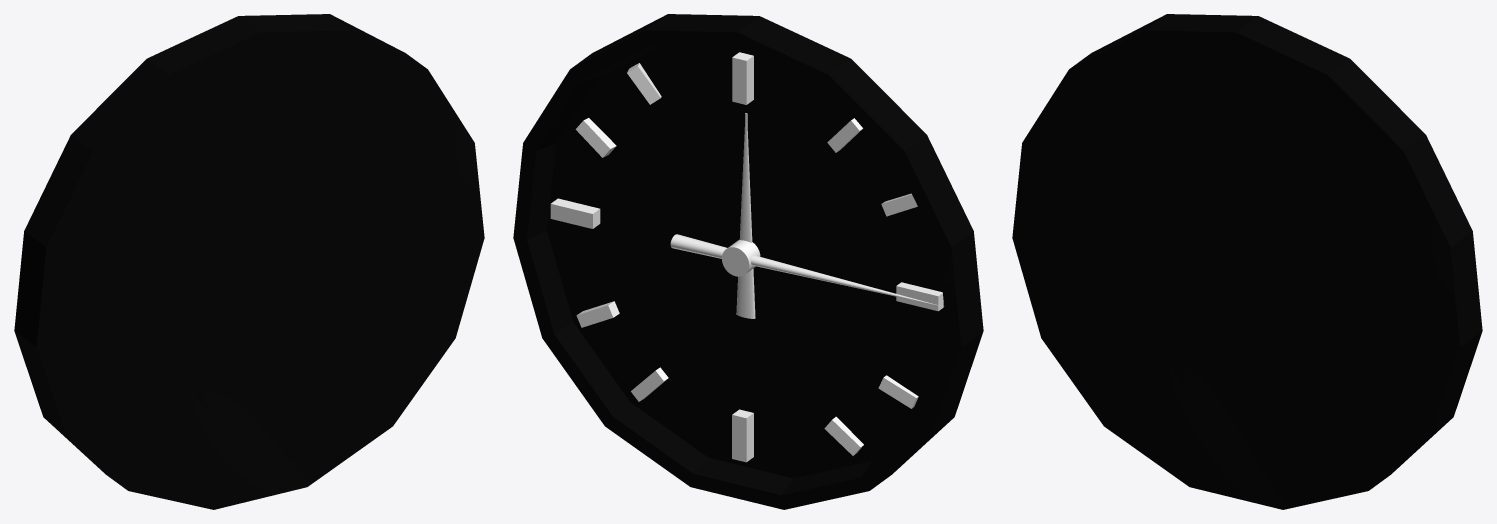
File: zegar.fbx
The picture shows the model from 3 angles, left to right: view 1: azimuth 30°, elevation 25°; view 2: azimuth 150°, elevation 25°; view 3: azimuth 330°, elevation 25°; orthographic projection.
Parts seen in each view (by area): view 1: Tarcza; view 2: Tarcza, Wkazówka długa, Wskazowka Krótka, godzinka.002, godzinka.001, godzinka, cetralny punkt wskaznikow, godzinka.003, godzinka.010, godzinka.007, godzinka.011, godzinka.009 (+3 smaller); view 3: Tarcza.
Part boxes in pixels (box(x1,y1,x2,y2)): Tarcza: box(14, 14, 484, 509); Tarcza: box(513, 14, 983, 509); Wkazówka długa: box(670, 234, 943, 306); Wskazowka Krótka: box(736, 113, 755, 318); godzinka.002: box(550, 198, 600, 228); godzinka.001: box(732, 409, 753, 462); godzinka: box(732, 52, 753, 104); cetralny punkt wskaznikow: box(722, 240, 760, 276); godzinka.003: box(896, 282, 943, 311); godzinka.010: box(575, 118, 616, 157); godzinka.007: box(824, 416, 863, 455); godzinka.011: box(627, 63, 661, 104); godzinka.009: box(576, 301, 619, 327); Tarcza: box(1012, 14, 1482, 509).
Size of the model in its own units: 69.62 by 69.24 by 6.
